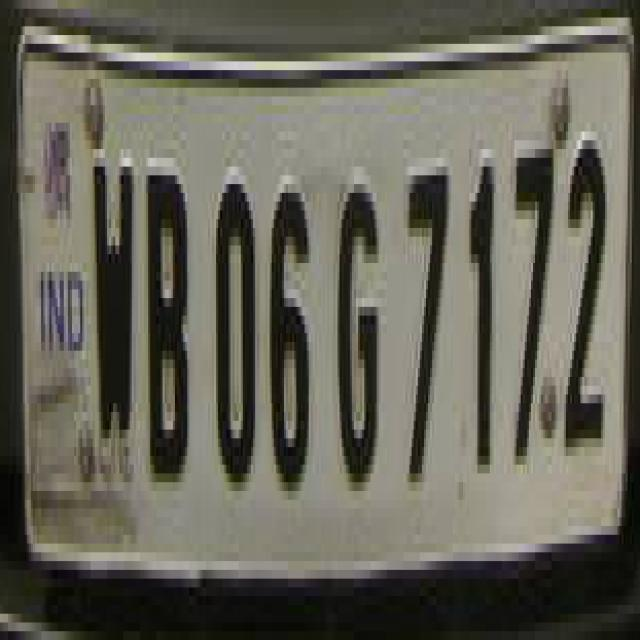license_plate: (22, 26, 640, 639)
